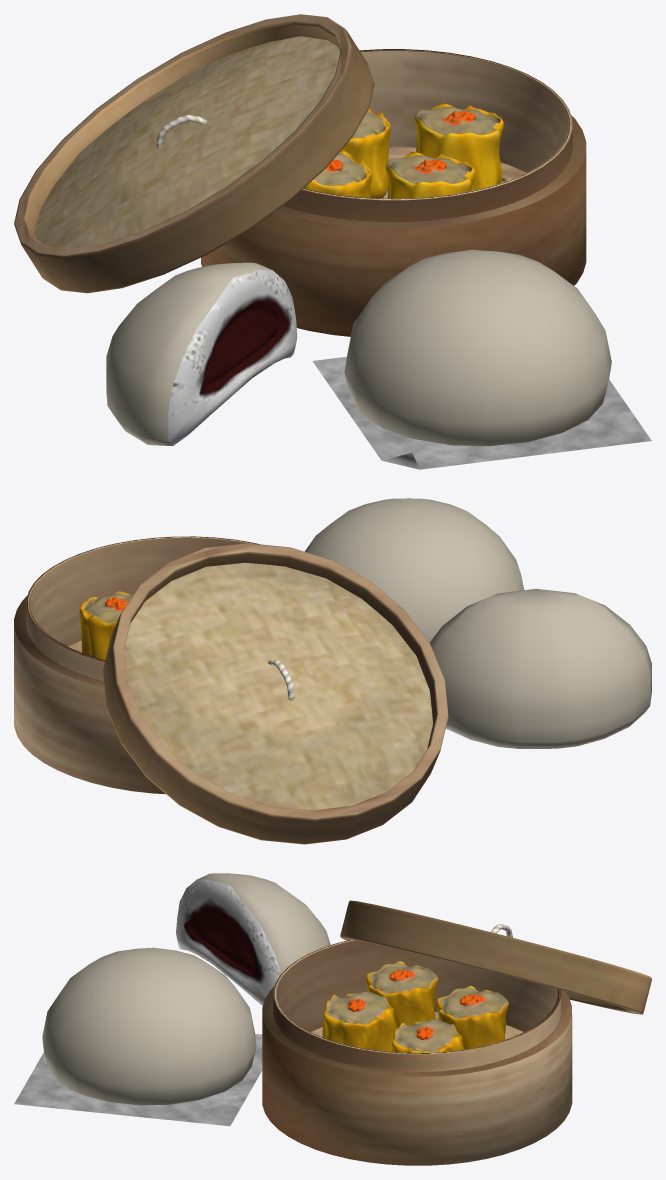
The model's file is dimsum.glb.
The picture shows the model from 3 angles, top to bottom: view 1: azimuth 30°, elevation 25°; view 2: azimuth 150°, elevation 25°; view 3: azimuth 270°, elevation 25°; orthographic projection. The views are drawn at different scales.
Visible parts, largest first — view 1: Dimsum; view 2: Dimsum; view 3: Dimsum.
Boxes of the visible parts, x1,y1,x2,y2 form: Dimsum: (14, 14, 651, 469); Dimsum: (14, 498, 651, 844); Dimsum: (14, 873, 651, 1165).
Size of the model in its own units: 0.2063 by 0.0756 by 0.2553.
Materials: 5 (5 with a texture image).
